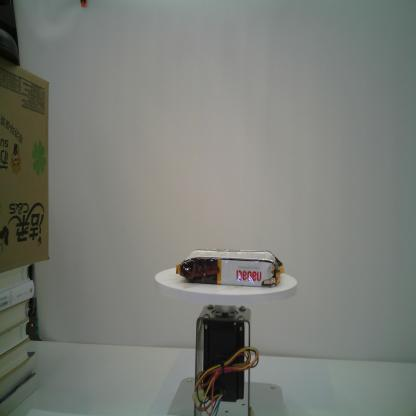Dessert: (173, 244, 287, 292)
